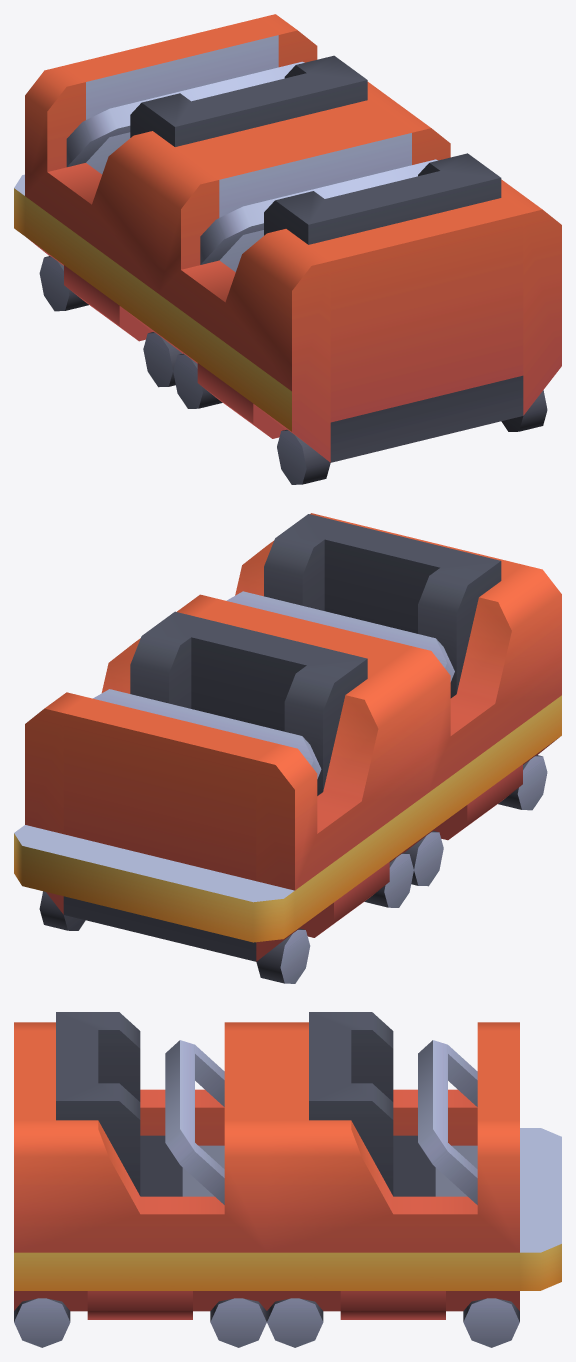
File: kenney-coaster-coaster-train.glb
The picture shows the model from 3 angles, top to bottom: view 1: azimuth 30°, elevation 25°; view 2: azimuth 150°, elevation 25°; view 3: azimuth 270°, elevation 25°; orthographic projection. The views are drawn at different scales.
Visible parts, largest first — view 1: coaster-train; view 2: coaster-train; view 3: coaster-train.
Part boxes in pixels (box(x1,y1,x2,y2)): coaster-train: box(14, 14, 561, 484); coaster-train: box(14, 513, 561, 983); coaster-train: box(14, 1012, 561, 1347).
Size of the model in its own units: 0.7001 by 0.6171 by 1.3.
Materials: 1 (1 with a texture image).
